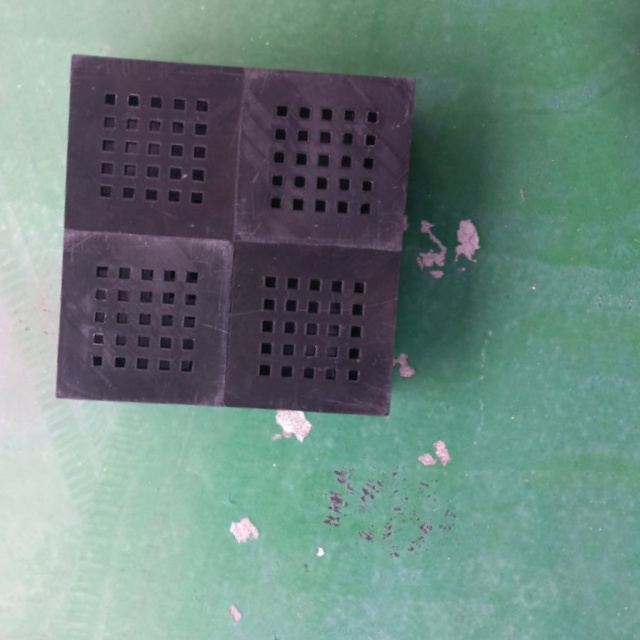pallet: (45, 43, 419, 424)
